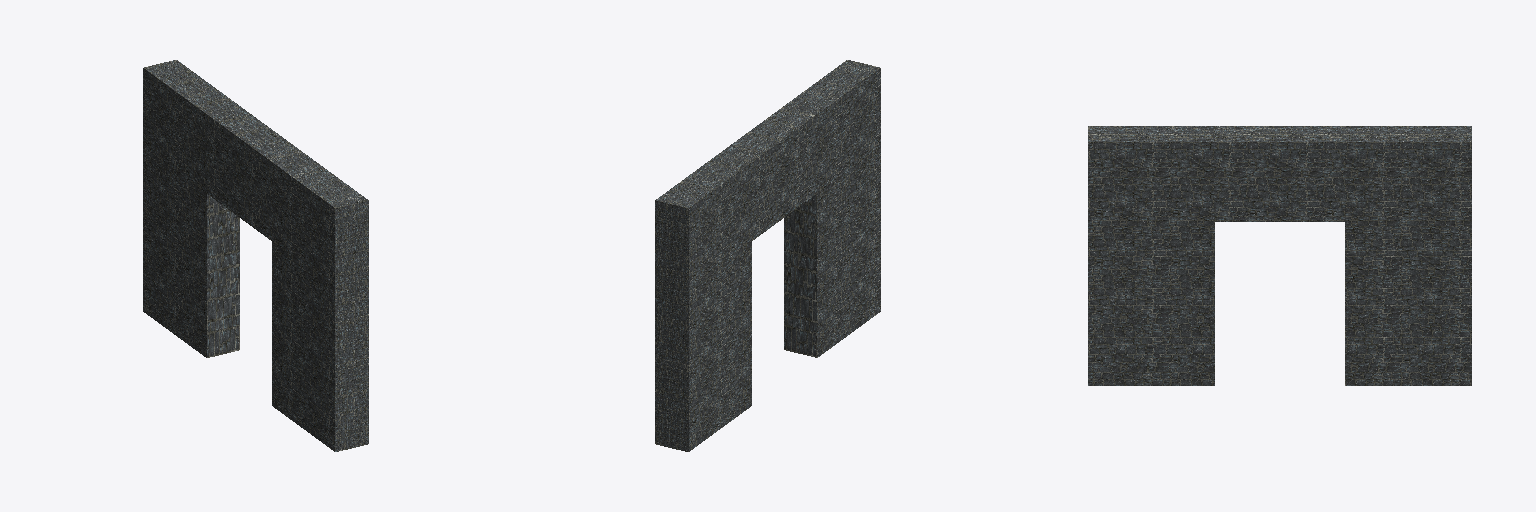
The picture shows the model from 3 angles: view 1: azimuth 30°, elevation 25°; view 2: azimuth 150°, elevation 25°; view 3: azimuth 270°, elevation 25°; orthographic projection.
Parts seen in each view (by area): view 1: stoneWall; view 2: stoneWall; view 3: stoneWall.
Part boxes in pixels (left/top/right/bottom): stoneWall: left=143, top=60, right=368, bottom=451; stoneWall: left=655, top=60, right=880, bottom=451; stoneWall: left=1088, top=126, right=1471, bottom=385.
Bounding box in the file's own units: 0.2 × 1.4 × 2.
Materials: 2 (1 with a texture image).